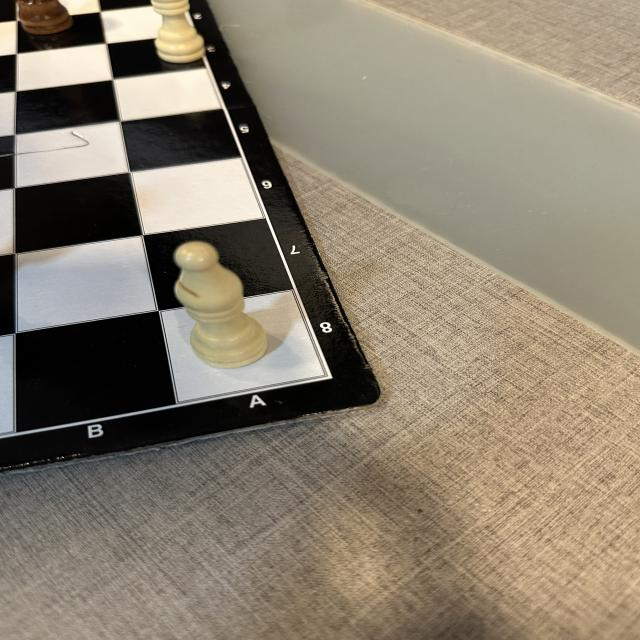White-Bishop: (172, 241, 268, 369)
White-Pawn: (149, 0, 206, 63)
